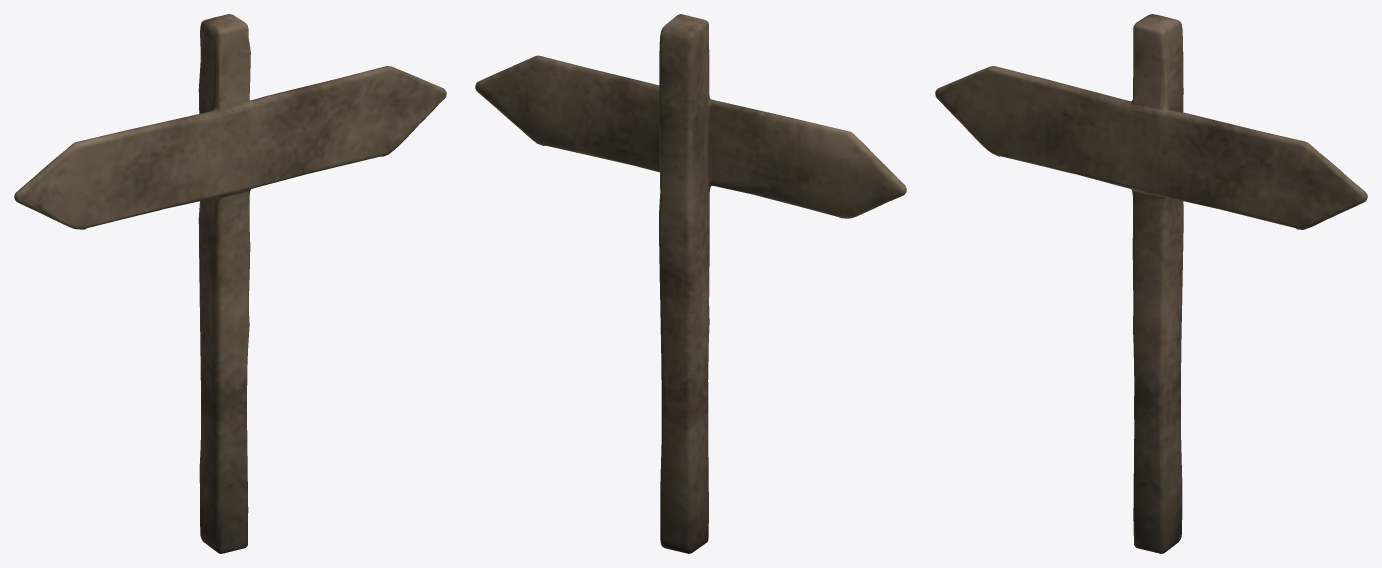
Rendered from plain-wood-signpost-v001.glb.
The picture shows the model from 3 angles, left to right: view 1: azimuth 30°, elevation 25°; view 2: azimuth 150°, elevation 25°; view 3: azimuth 330°, elevation 25°; orthographic projection.
Visible parts, largest first — view 1: plain-wood-signpost; view 2: plain-wood-signpost; view 3: plain-wood-signpost.
Part boxes in pixels (x1,y1,x2,y2): plain-wood-signpost: (14, 14, 446, 553); plain-wood-signpost: (475, 14, 906, 553); plain-wood-signpost: (935, 14, 1367, 553).
Bounding box in the file's own units: 1.71 × 1.99 × 0.1596.
1 material, 1 textured.
